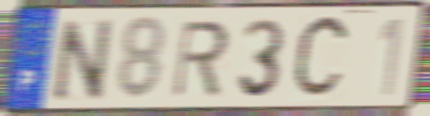1: (378, 16, 405, 98)
3: (235, 17, 287, 100)
8: (113, 14, 172, 105)
C: (289, 11, 353, 106)
N: (51, 16, 115, 104)
R: (170, 18, 232, 101)
